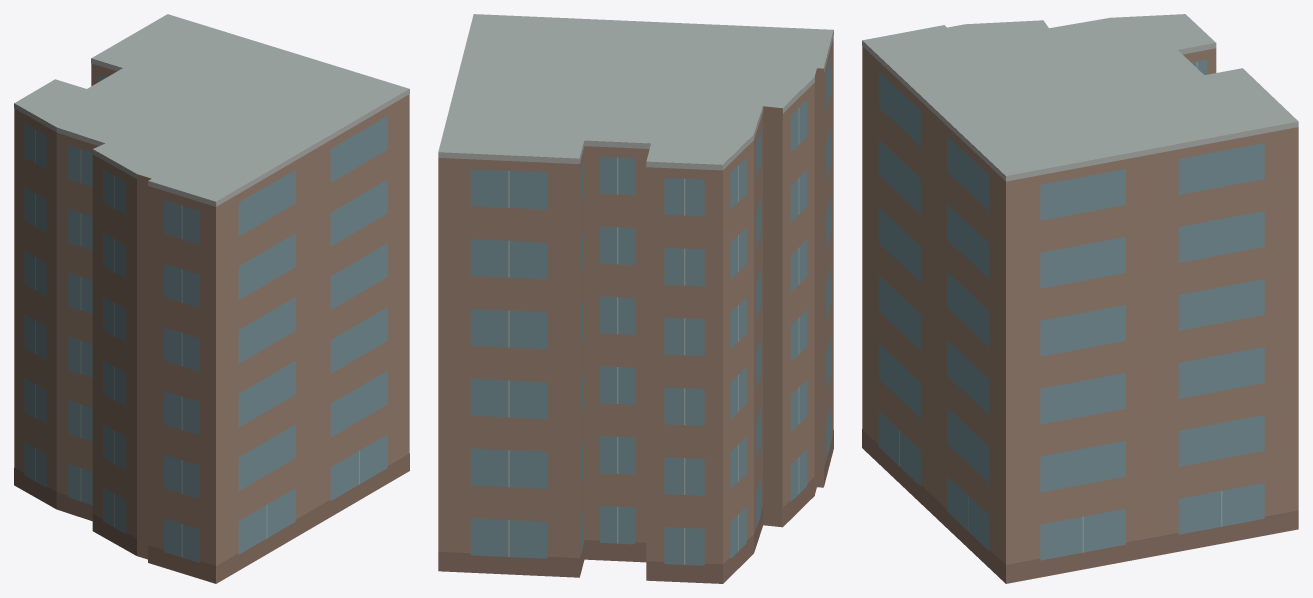
The model's file is survey-upis-33035413.glb.
3 views of the same model, side by side, from view 1: azimuth 30°, elevation 25°; view 2: azimuth 150°, elevation 25°; view 3: azimuth 270°, elevation 25° (orthographic). The views are drawn at different scales.
Visible parts, largest first — view 1: survey-upis-33035413.tmp; view 2: survey-upis-33035413.tmp; view 3: survey-upis-33035413.tmp.
Part boxes in pixels (<box>): survey-upis-33035413.tmp: <box>14,14,409,583</box>; survey-upis-33035413.tmp: <box>438,14,833,583</box>; survey-upis-33035413.tmp: <box>862,14,1298,583</box>.
Size of the model in its own units: 15.62 by 18.3 by 17.77.
